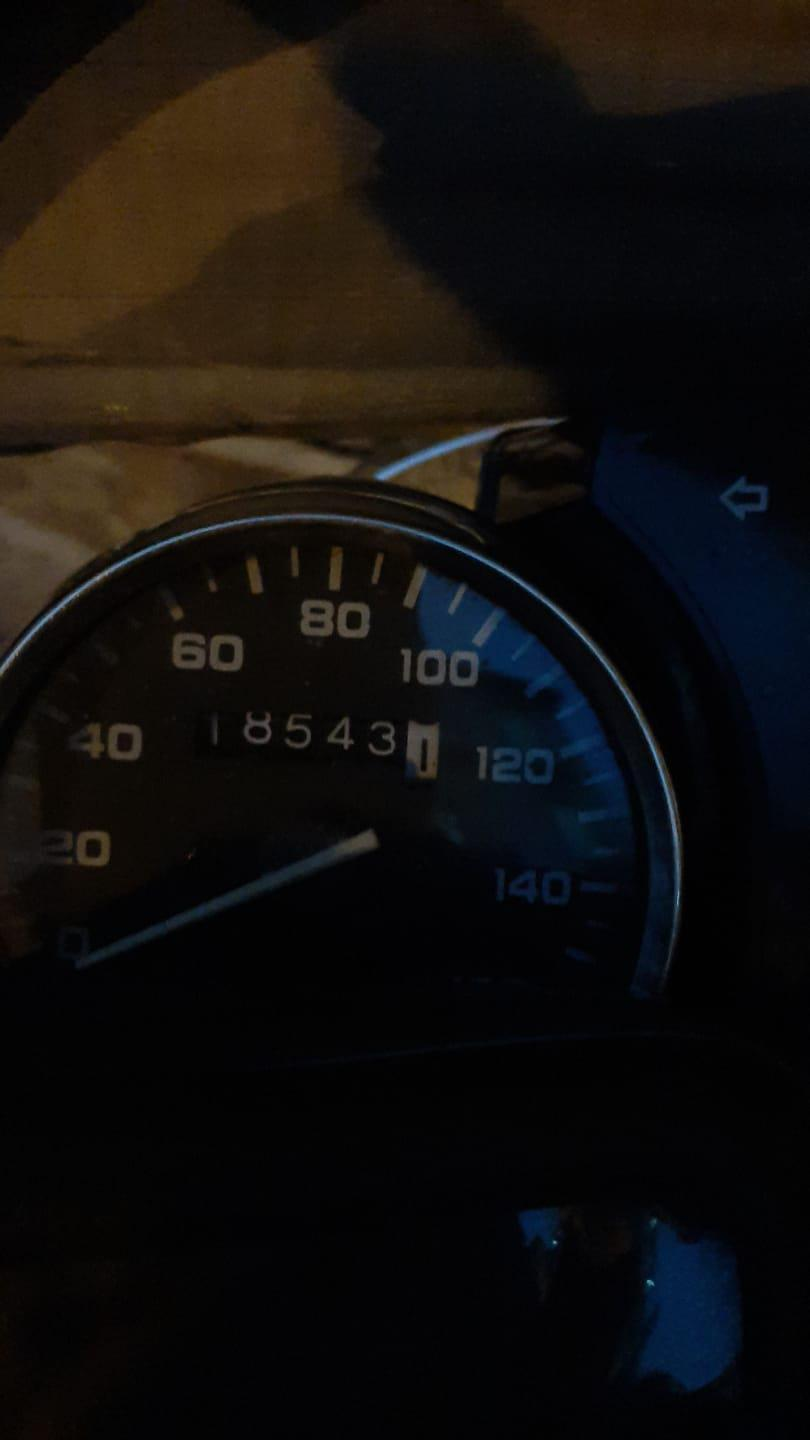1: (203, 703, 224, 756), (412, 732, 436, 773)
3: (366, 717, 400, 762)
4: (324, 711, 356, 749)
5: (284, 711, 316, 756)
8: (237, 704, 277, 751)
odometer: (184, 697, 447, 788)
